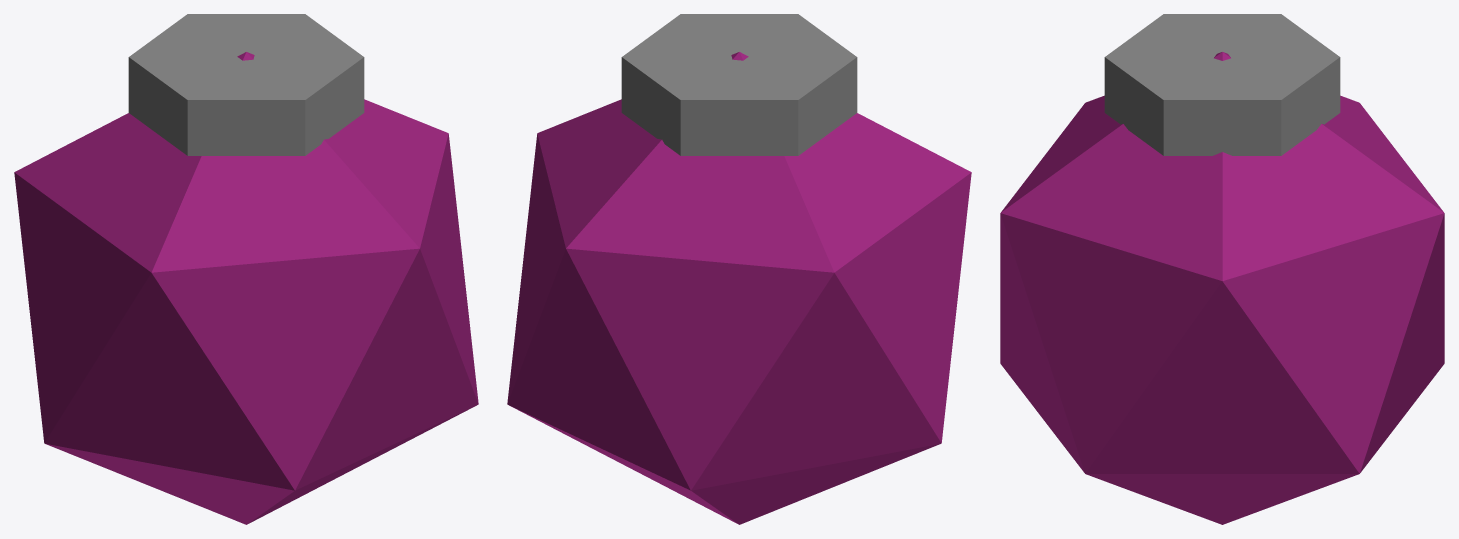
Rendered from ballfbx.fbx.
3 views of the same model, side by side, from view 1: azimuth 30°, elevation 25°; view 2: azimuth 150°, elevation 25°; view 3: azimuth 270°, elevation 25° (orthographic).
Visible parts, largest first — view 1: Ball, Cylinder; view 2: Ball, Cylinder; view 3: Ball, Cylinder.
Part boxes in pixels (x1,y1,x2,y2): Ball: [14, 52, 478, 524]; Cylinder: [128, 14, 364, 155]; Ball: [507, 52, 971, 524]; Cylinder: [621, 14, 857, 155]; Ball: [1000, 52, 1444, 524]; Cylinder: [1104, 14, 1340, 155].
Bounding box in the file's own units: 179 × 200 × 170.
